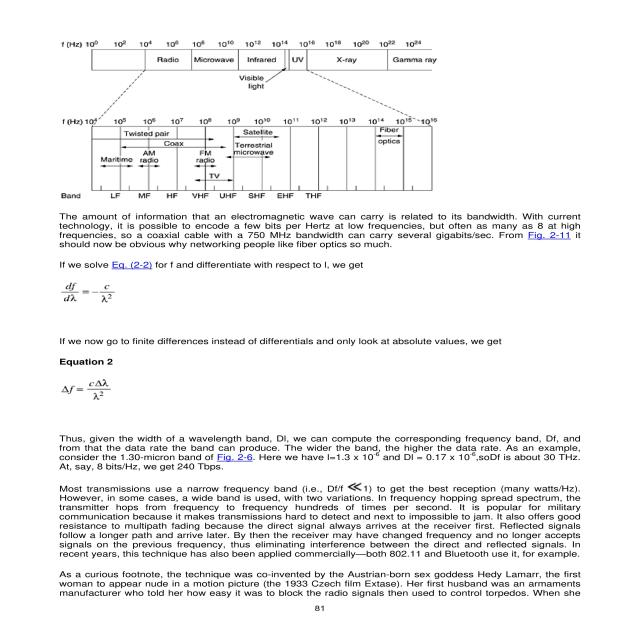diagram: (44, 29, 462, 204)
